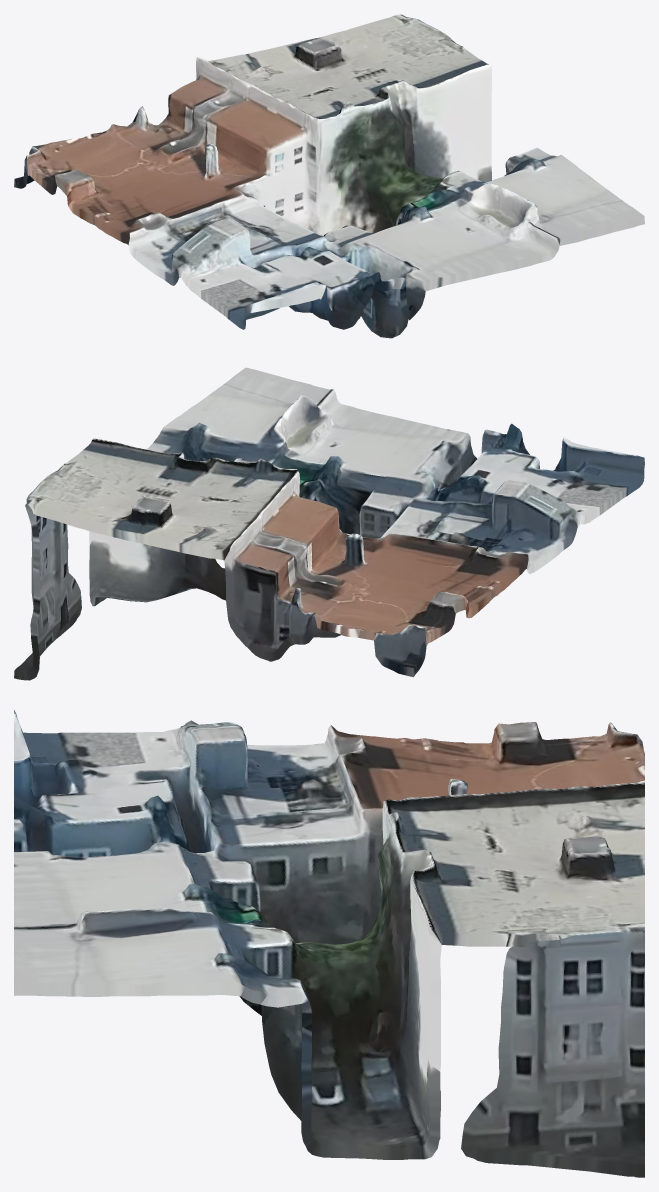
Rendered from z20-167747-405197-h0-yup-uvflip-v3-world.glb.
3 renders of one model, top to bottom at view 1: azimuth 30°, elevation 25°; view 2: azimuth 150°, elevation 25°; view 3: azimuth 270°, elevation 25°, orthographic. The views are drawn at different scales.
Bounding box in the file's own units: 30.24 × 13.84 × 30.32.
Materials: 1 (1 with a texture image).
